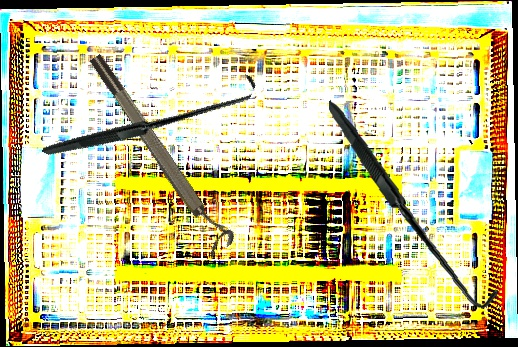Fixation Ring: (85, 45, 239, 258)
Hook Surgical: (41, 10, 259, 222), (315, 99, 511, 310)
